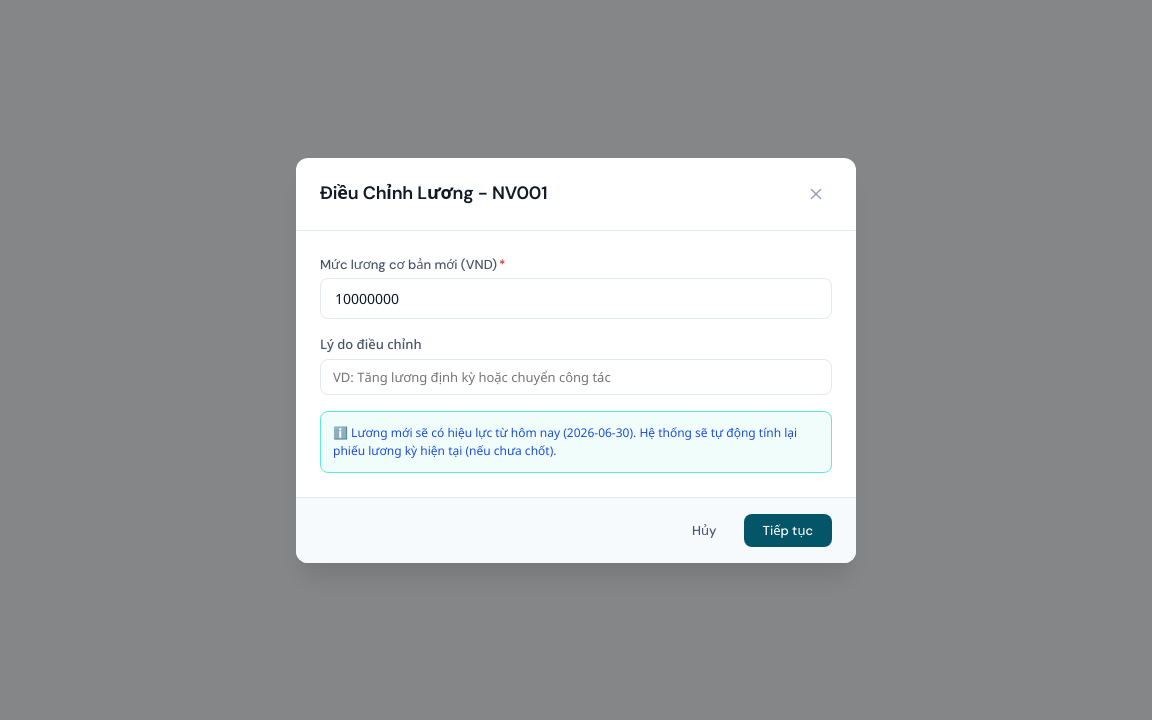
Test case: AdjustSalaryFormModal › validates new salary base is required
Clear the number field labelled "Mức lương cơ bản mới (VND)*" at [576, 298], box [320,278,832,319]
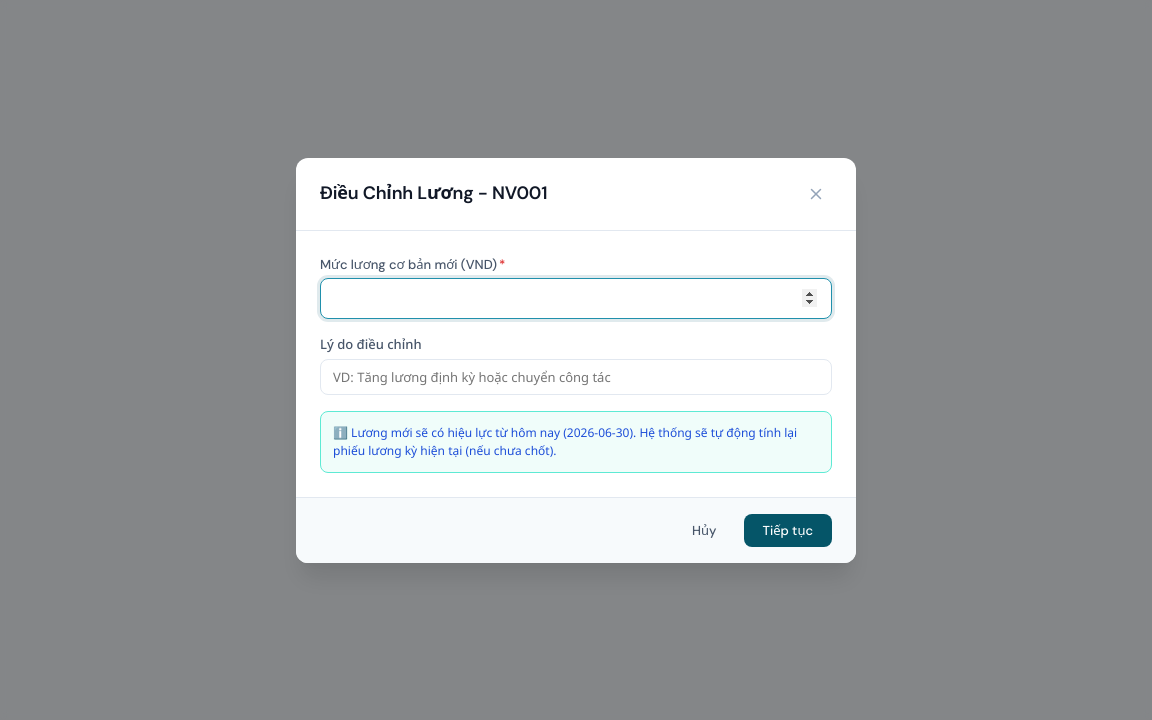
Click the button "Tiếp tục" at [788, 530], box [744,514,832,546]
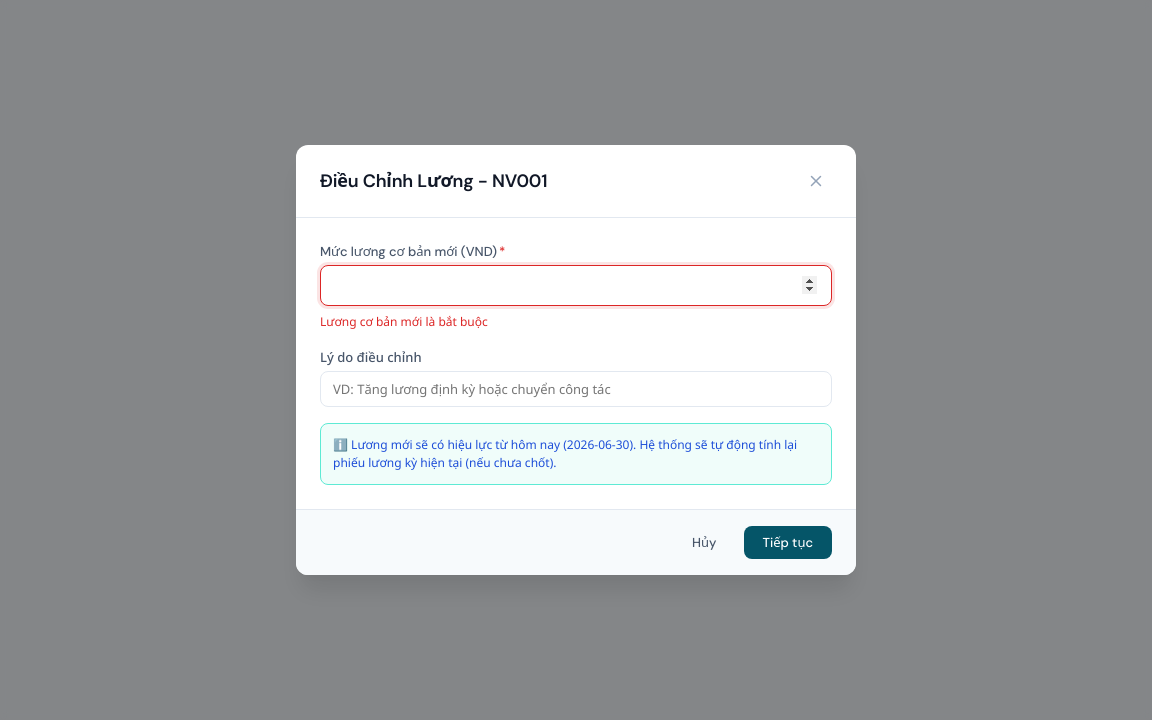
Check: the text "Lương cơ bản mới là bắt buộc" is shown, box [320,313,488,330]
